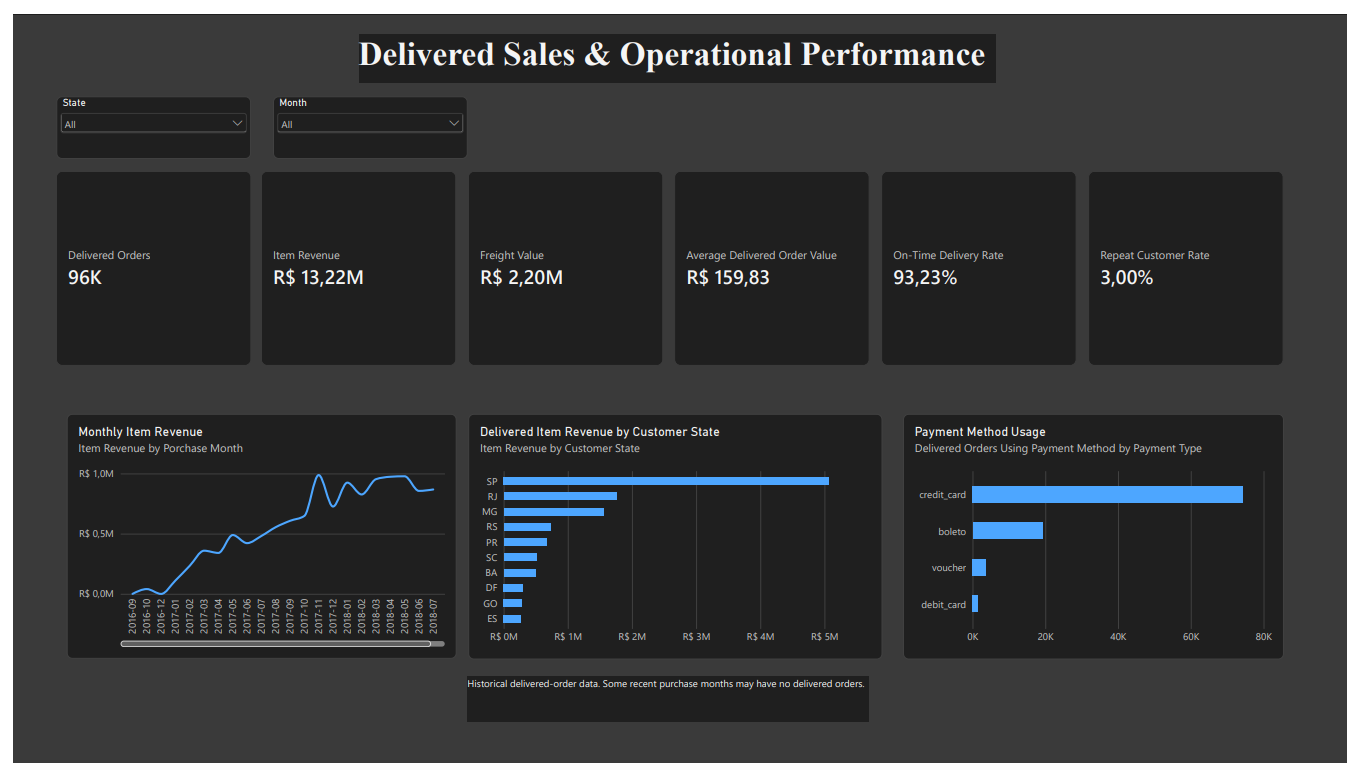

The dashboard page shown, as its layout file describes it:
{"tool":"powerbi","page":{"name":"Executive Overview","canvas":[1920,1080],"ordinal":0},"visuals":[{"type":"cardVisual","fields":{"Data":["delivered_order_items.Item Revenue"]},"box":[357.7,225.8,280,280],"z":0},{"type":"cardVisual","fields":{"Data":["delivered_orders.Delivered Orders"]},"box":[63.4,225.8,280,280],"z":1000},{"type":"cardVisual","fields":{"Data":["delivered_order_items.Freight Value"]},"box":[656.2,225.8,280,280],"z":2000},{"type":"cardVisual","fields":{"Data":["delivered_orders.Average Delivered Order Value"]},"box":[952.6,225.8,280,280],"z":3000},{"type":"cardVisual","fields":{"Data":["delivered_order_items.On-Time Delivery Rate"]},"box":[1251,225.8,280,280],"z":4000},{"type":"cardVisual","fields":{"Data":["repeat_customer_summary.Repeat Customer Rate"]},"box":[1549.5,225.8,280,280],"z":5000},{"type":"lineChart","title":"Monthly Item Revenue","fields":{"Category":["delivered_order_items.purchase_month"],"Y":["delivered_order_items.Item Revenue"]},"box":[78,575.6,561,353.7],"z":6000},{"type":"clusteredBarChart","title":"Delivered Item Revenue by Customer State","fields":{"Category":["delivered_order_items.customer_state"],"Y":["delivered_order_items.Item Revenue"]},"box":[656,576,596,354],"z":7000},{"type":"clusteredBarChart","title":"Payment Method Usage","fields":{"Category":["delivered_payments.payment_type"],"Y":["delivered_orders.Delivered Orders Using Payment Method"]},"box":[1282,576,548,354],"z":8000},{"type":"slicer","fields":{"Values":["delivered_order_items.customer_state"]},"box":[62.5,117.5,280,90],"z":9000},{"type":"slicer","fields":{"Values":["delivered_order_items.order_purchase_timestamp.Variation.Date Hierarchy.Month"]},"box":[375,117.5,280,90],"z":10000},{"type":"textbox","box":[655,955,577.5,65],"z":11000},{"type":"textbox","box":[497.5,27.5,917.5,70],"z":12000}]}

Visuals, with their boxes in screenshot pixels (x1, y1, x2, y2), scaled from the page's 1920x1080 canvas onto the 1361x776 screenshot:
cardVisual - delivered_order_items.Item Revenue: <bbox>254, 162, 452, 363</bbox>
cardVisual - delivered_orders.Delivered Orders: <bbox>45, 162, 243, 363</bbox>
cardVisual - delivered_order_items.Freight Value: <bbox>465, 162, 664, 363</bbox>
cardVisual - delivered_orders.Average Delivered Order Value: <bbox>675, 162, 874, 363</bbox>
cardVisual - delivered_order_items.On-Time Delivery Rate: <bbox>887, 162, 1085, 363</bbox>
cardVisual - repeat_customer_summary.Repeat Customer Rate: <bbox>1098, 162, 1297, 363</bbox>
"Monthly Item Revenue" lineChart: <bbox>55, 414, 453, 668</bbox>
"Delivered Item Revenue by Customer State" clusteredBarChart: <bbox>465, 414, 887, 668</bbox>
"Payment Method Usage" clusteredBarChart: <bbox>909, 414, 1297, 668</bbox>
slicer - delivered_order_items.customer_state: <bbox>44, 84, 243, 149</bbox>
slicer - delivered_order_items.order_purchase_timestamp.Variation.Date Hierarchy.Month: <bbox>266, 84, 464, 149</bbox>
textbox: <bbox>464, 686, 874, 733</bbox>
textbox: <bbox>353, 20, 1003, 70</bbox>
